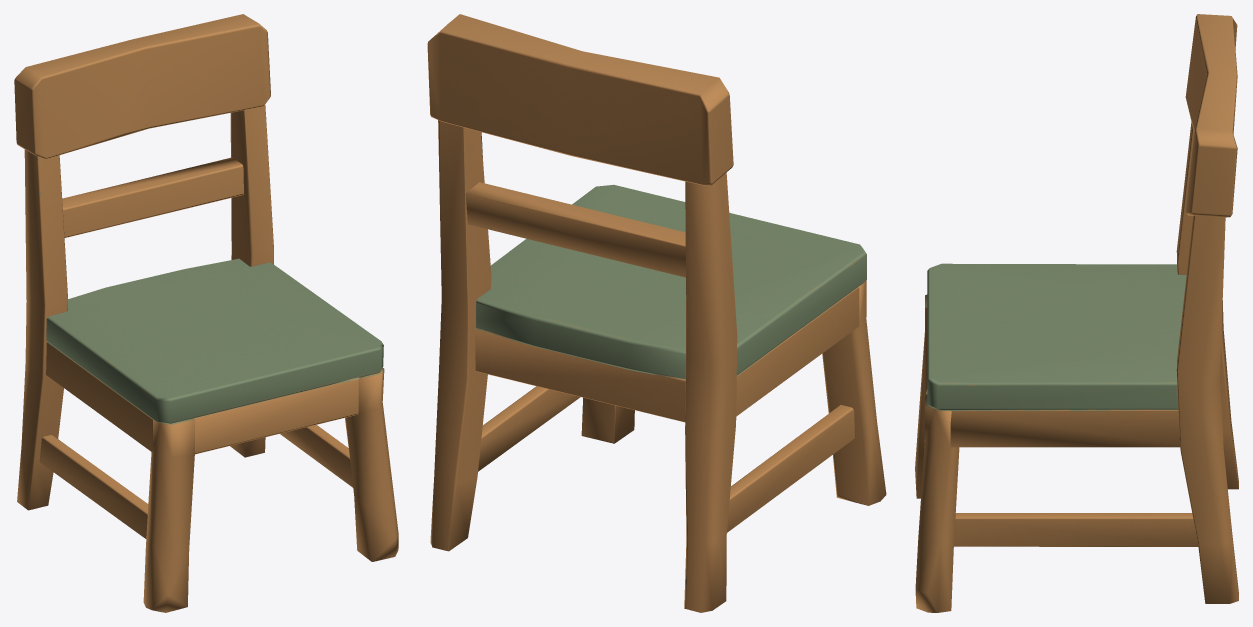
Rendered from chair.glb.
3 renders of one model, left to right at view 1: azimuth 30°, elevation 25°; view 2: azimuth 150°, elevation 25°; view 3: azimuth 270°, elevation 25°, orthographic. The views are drawn at different scales.
Bounding box in the file's own units: 0.5635 × 0.9531 × 0.5874.
1 material, 1 textured.
